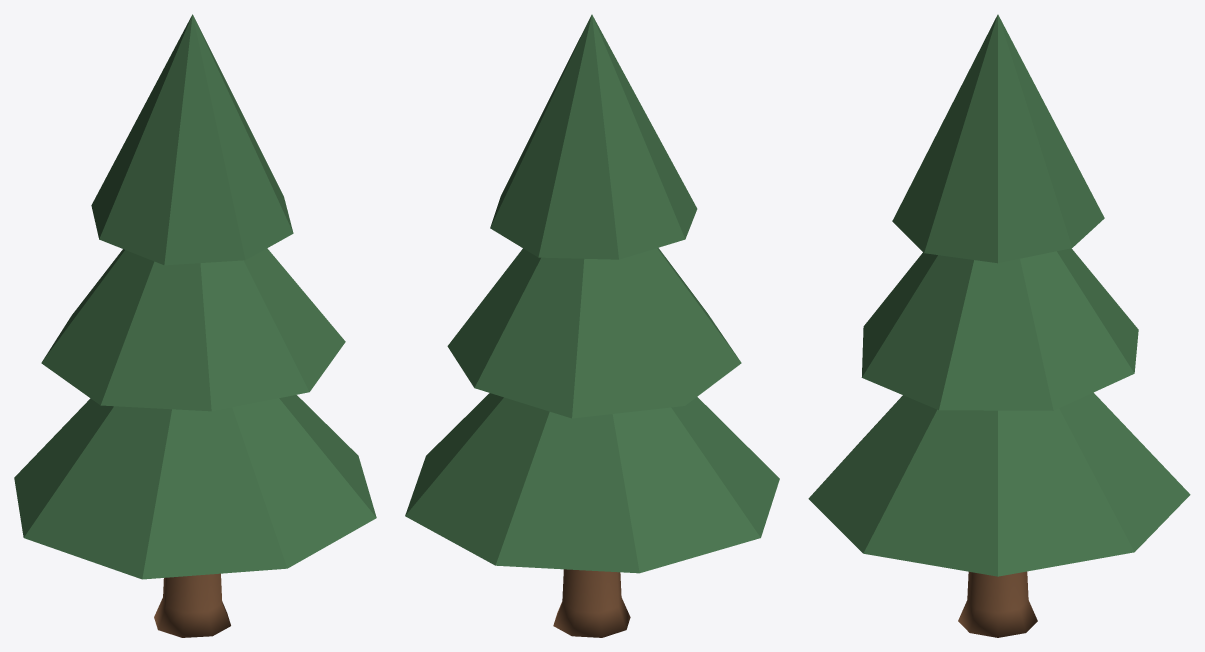
Rendered from TreePine.fbx.
3 views of the same model, side by side, from view 1: azimuth 30°, elevation 25°; view 2: azimuth 150°, elevation 25°; view 3: azimuth 270°, elevation 25° (orthographic).
Parts seen in each view (by area): view 1: TreePine_Mesh; view 2: TreePine_Mesh; view 3: TreePine_Mesh.
Part boxes in pixels (x1,y1,x2,y2): TreePine_Mesh: (14, 14, 376, 637); TreePine_Mesh: (405, 14, 779, 637); TreePine_Mesh: (808, 14, 1190, 637).
Size of the model in its own units: 5.77 by 10 by 5.71.
